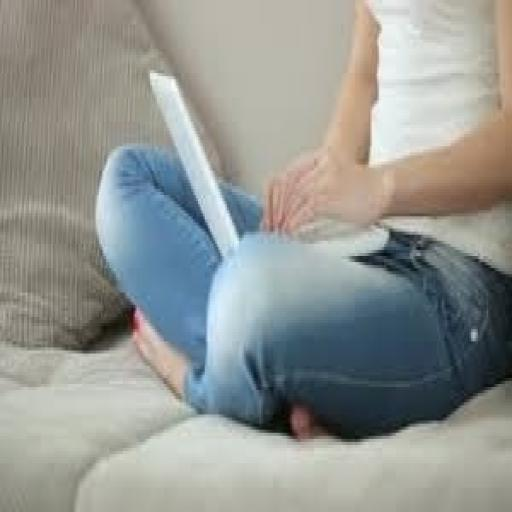using_laptop: (147, 64, 382, 262)
